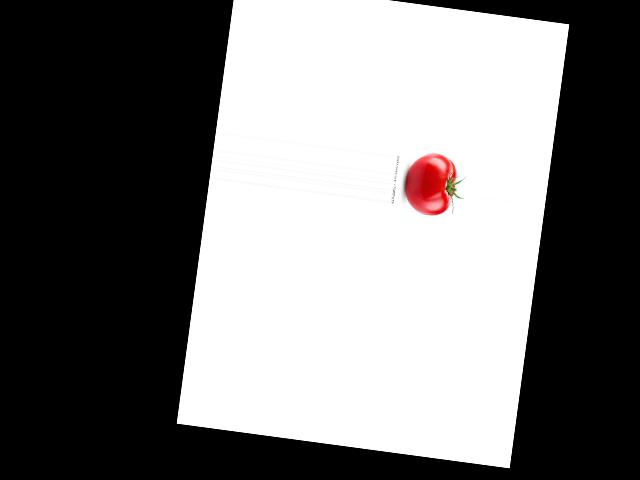tomato: (402, 150, 458, 218)
